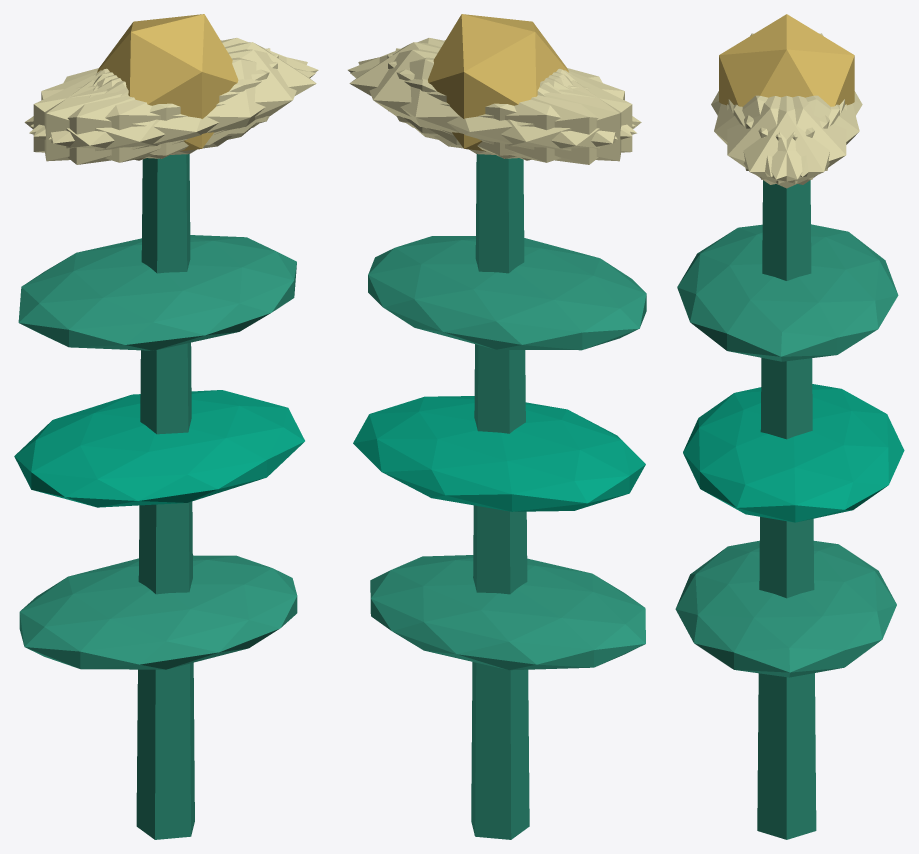
The model's file is vitis-amurensis.glb.
3 views of the same model, side by side, from view 1: azimuth 30°, elevation 25°; view 2: azimuth 150°, elevation 25°; view 3: azimuth 270°, elevation 25° (orthographic).
Parts seen in each view (by area): view 1: stem, leaf2, leaf1, leaf0, center, petal1, petal6, petal2, petal5, petal7, petal0, petal4 (+2 smaller); view 2: stem, leaf1, leaf2, leaf0, center, petal8, petal3, petal7, petal4, petal2, petal0, petal5 (+2 smaller); view 3: stem, leaf2, leaf1, leaf0, center, petal0, petal4, petal5, petal1, petal8.
Part boxes in pixels (bbox=[...]): stem: bbox=[136, 154, 194, 839]; leaf2: bbox=[18, 235, 296, 350]; leaf1: bbox=[14, 390, 304, 507]; leaf0: bbox=[19, 555, 297, 669]; center: bbox=[97, 14, 238, 151]; petal1: bbox=[29, 57, 315, 162]; petal6: bbox=[24, 70, 231, 164]; petal2: bbox=[44, 48, 270, 161]; petal5: bbox=[48, 49, 307, 155]; petal7: bbox=[33, 54, 278, 158]; petal0: bbox=[96, 42, 316, 145]; petal4: bbox=[30, 38, 318, 136]; stem: bbox=[471, 154, 529, 839]; leaf1: bbox=[353, 396, 645, 511]; leaf2: bbox=[368, 236, 646, 350]; leaf0: bbox=[370, 555, 645, 670]; center: bbox=[428, 14, 568, 151]; petal8: bbox=[350, 57, 636, 162]; petal3: bbox=[434, 70, 641, 164]; petal7: bbox=[395, 48, 621, 161]; petal4: bbox=[358, 49, 617, 155]; petal2: bbox=[387, 54, 632, 158]; petal0: bbox=[349, 42, 569, 145]; petal5: bbox=[348, 38, 635, 136]; stem: bbox=[757, 180, 816, 839]; leaf2: bbox=[677, 224, 898, 361]; leaf1: bbox=[683, 384, 904, 522]; leaf0: bbox=[675, 540, 896, 677]; center: bbox=[719, 14, 854, 106]; petal0: bbox=[728, 96, 844, 188]; petal4: bbox=[733, 96, 846, 184]; petal5: bbox=[727, 96, 839, 184]; petal1: bbox=[714, 95, 829, 176]; petal8: bbox=[744, 95, 859, 176].
Size of the model in its own units: 0.1498 by 0.3957 by 0.1033.
